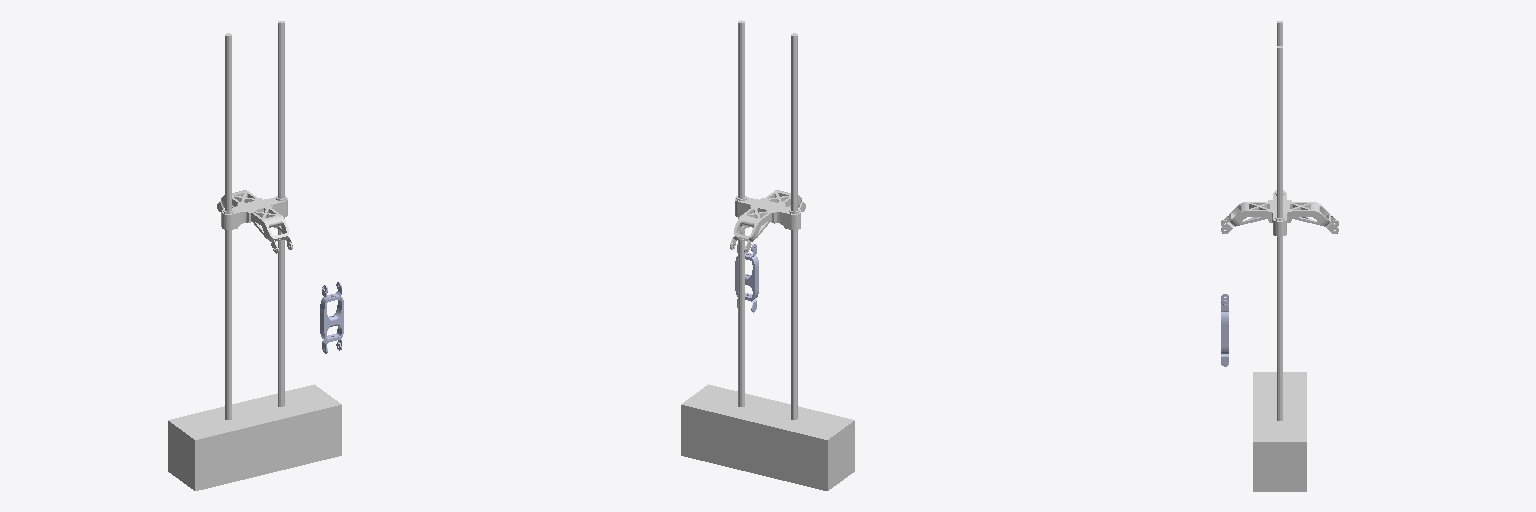
URDF robot description (Pata_Robo_Parcial_URDF_V1.2):
<?xml version="1.0" encoding="utf-8"?>
<!-- This URDF was automatically created by SolidWorks to URDF Exporter! Originally created by Stephen Brawner (brawner@gmail.com) 
     Commit Version: 1.6.0-4-g7f85cfe  Build Version: 1.6.7995.38578
     For more information, please see http://wiki.ros.org/sw_urdf_exporter -->
<robot
  name="Pata_Robo_Parcial_URDF_V1.2">
  <!--
    Marco global de visualizacion. El CAD fue exportado con la longitud de la
    pierna sobre el eje X; esta rotacion la coloca vertical en RViz, con la
    base abajo, sin cambiar la cinematica ni los ejes de las articulaciones.
  -->
  <link name="world" />
  <joint name="world_to_base" type="fixed">
    <parent link="world" />
    <child link="Base_link" />
    <origin xyz="0 0 1.008062" rpy="0 1.57079632679 0" />
  </joint>
  <link
    name="Base_link">
    <inertial>
      <origin
        xyz="0.81995 3.347E-07 9.745E-05"
        rpy="0 0 0" />
      <mass
        value="26.056" />
      <inertia
        ixx="0.7959"
        ixy="1.6789E-14"
        ixz="-1.9851E-07"
        iyy="1.47"
        iyz="1.3268E-08"
        izz="2.1151" />
    </inertial>
    <visual>
      <origin
        xyz="0 0 0"
        rpy="0 0 0" />
      <geometry>
        <mesh
          filename="package://robot_description/meshes/Base_link.STL" />
      </geometry>
      <material
        name="">
        <color
          rgba="0.89412 0.89412 0.89412 1" />
      </material>
    </visual>
    <collision>
      <origin
        xyz="0 0 0"
        rpy="0 0 0" />
      <geometry>
        <mesh
          filename="package://robot_description/meshes/Base_link.STL" />
      </geometry>
    </collision>
  </link>
  <link
    name="Hip_Link">
    <inertial>
      <origin
        xyz="0.059729 0.0001899 -0.00021766"
        rpy="0 0 0" />
      <mass
        value="0.19411" />
      <inertia
        ixx="5.2459E-05"
        ixy="-1.017E-07"
        ixz="-1.017E-07"
        iyy="8.9433E-05"
        iyz="-6.4685E-10"
        izz="8.9433E-05" />
    </inertial>
    <visual>
      <origin
        xyz="0 0 0"
        rpy="0 0 0" />
      <geometry>
        <mesh
          filename="package://robot_description/meshes/Hip_Link.STL" />
      </geometry>
      <material
        name="">
        <color
          rgba="0.89412 0.89412 0.89412 1" />
      </material>
    </visual>
    <collision>
      <origin
        xyz="0 0 0"
        rpy="0 0 0" />
      <geometry>
        <mesh
          filename="package://robot_description/meshes/Hip_Link.STL" />
      </geometry>
    </collision>
  </link>
  <joint
    name="Hip_Joint"
    type="revolute">
    <origin
      xyz="0.083749 0 0.2004"
      rpy="1.5708 0 0" />
    <parent
      link="Base_link" />
    <child
      link="Hip_Link" />
    <axis
      xyz="0 0 1" />
    <limit
      lower="-1.5708"
      upper="1.5708"
      effort="100"
      velocity="100" />
  </joint>
  <link
    name="Knee_Link">
    <inertial>
      <origin
        xyz="0.12138 0.00022499 0.00023022"
        rpy="0 0 0" />
      <mass
        value="0.21755" />
      <inertia
        ixx="0.00017367"
        ixy="7.9209E-10"
        ixz="-8.4058E-09"
        iyy="0.00053617"
        iyz="-3.2733E-09"
        izz="0.00039504" />
    </inertial>
    <visual>
      <origin
        xyz="0 0 0"
        rpy="0 0 0" />
      <geometry>
        <mesh
          filename="package://robot_description/meshes/Knee_Link.STL" />
      </geometry>
      <material
        name="">
        <color
          rgba="0.79216 0.81961 0.92941 1" />
      </material>
    </visual>
    <collision>
      <origin
        xyz="0 0 0"
        rpy="0 0 0" />
      <geometry>
        <mesh
          filename="package://robot_description/meshes/Knee_Link.STL" />
      </geometry>
    </collision>
  </link>
  <joint
    name="Knee_Joint"
    type="revolute">
    <origin
      xyz="0.11945 0 0"
      rpy="-1.5708 0 0" />
    <parent
      link="Hip_Link" />
    <child
      link="Knee_Link" />
    <axis
      xyz="0 0 1" />
    <limit
      lower="-1.5708"
      upper="1.5708"
      effort="100"
      velocity="100" />
  </joint>
  <link
    name="Ankle_Link">
    <inertial>
      <origin
        xyz="0.14628 -0.012034 -0.00027145"
        rpy="0 0 0" />
      <mass
        value="0.38215" />
      <inertia
        ixx="0.00046168"
        ixy="3.9328E-05"
        ixz="-1.1677E-07"
        iyy="0.00052581"
        iyz="1.7837E-08"
        izz="0.00059799" />
    </inertial>
    <visual>
      <origin
        xyz="0 0 0"
        rpy="0 0 0" />
      <geometry>
        <mesh
          filename="package://robot_description/meshes/Ankle_Link.STL" />
      </geometry>
      <material
        name="">
        <color
          rgba="0.89412 0.89412 0.89412 1" />
      </material>
    </visual>
    <collision>
      <origin
        xyz="0 0 0"
        rpy="0 0 0" />
      <geometry>
        <mesh
          filename="package://robot_description/meshes/Ankle_Link.STL" />
      </geometry>
    </collision>
  </link>
  <joint
    name="Ankle_Joint"
    type="revolute">
    <origin
      xyz="0.23605 0 0"
      rpy="3.1416 0 0" />
    <parent
      link="Knee_Link" />
    <child
      link="Ankle_Link" />
    <axis
      xyz="0 0 -1" />
    <limit
      lower="-1.5708"
      upper="1.5708"
      effort="100"
      velocity="100" />
  </joint>
</robot>

--- Facts derived from the render (not from the file) ---
Views: 3 orthographic renders of the robot side by side, from view 1: azimuth 30°, elevation 25°; view 2: azimuth 150°, elevation 25°; view 3: azimuth 270°, elevation 25°.
Robot: Pata_Robo_Parcial_URDF_V1.2 — 5 links, 4 joints (3 revolute, 1 fixed); root link world; default pose: every joint at zero.
Links seen in each view (by area): view 1: Base_link, Knee_Link; view 2: Base_link, Knee_Link; view 3: Base_link, Knee_Link.
Boxes of the visible links, box(x1,y1,x2,y2) form: Base_link: box(168, 21, 341, 490); Knee_Link: box(320, 282, 343, 353); Base_link: box(681, 20, 854, 490); Knee_Link: box(735, 244, 758, 312); Base_link: box(1221, 21, 1338, 491); Knee_Link: box(1221, 294, 1228, 366).
Size in the robot's own frame: 0.6 by 0.4308 by 1.7 metres.
Meshes: 4 distinct files referenced, 2 mesh visuals loaded (2 binary STL); not drawn: 2 (reference not matched to a file when rendering).
